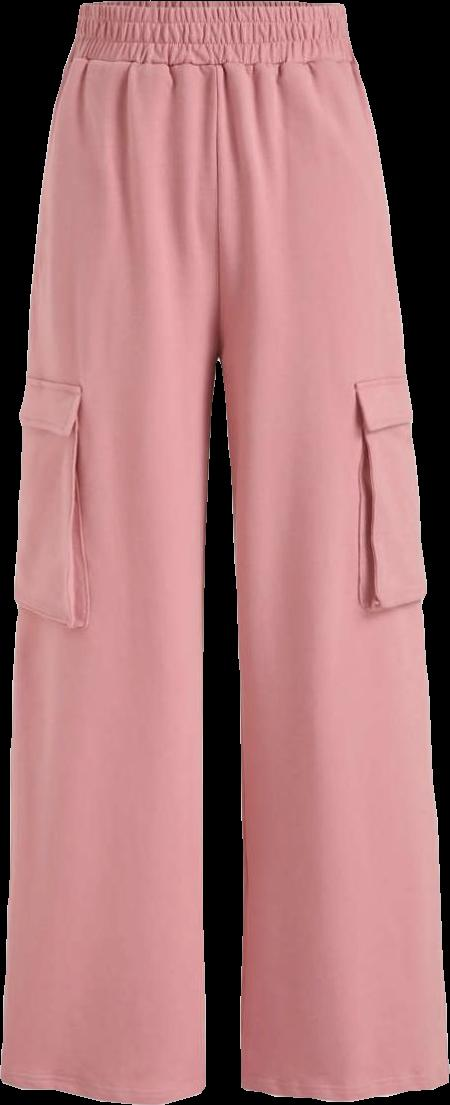Hemline: (0, 1073, 212, 1103), (240, 1077, 448, 1103)
Pantleg: (213, 2, 448, 1101), (1, 2, 230, 1104)
Waistline: (63, 44, 354, 73), (78, 0, 350, 20)
